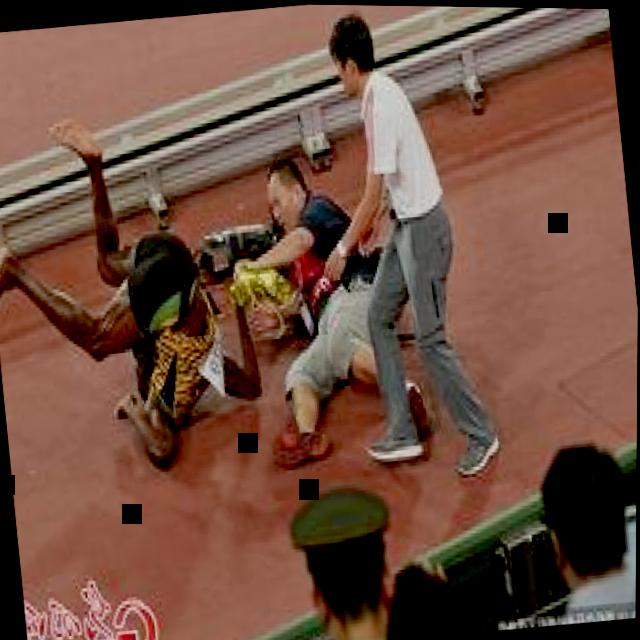Fall-Detected: (0, 79, 249, 435)
